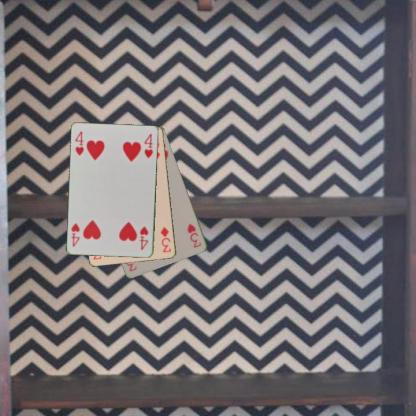3d: (158, 224, 172, 254)
3h: (185, 221, 203, 249)
4h: (138, 224, 150, 251), (73, 129, 85, 156)
